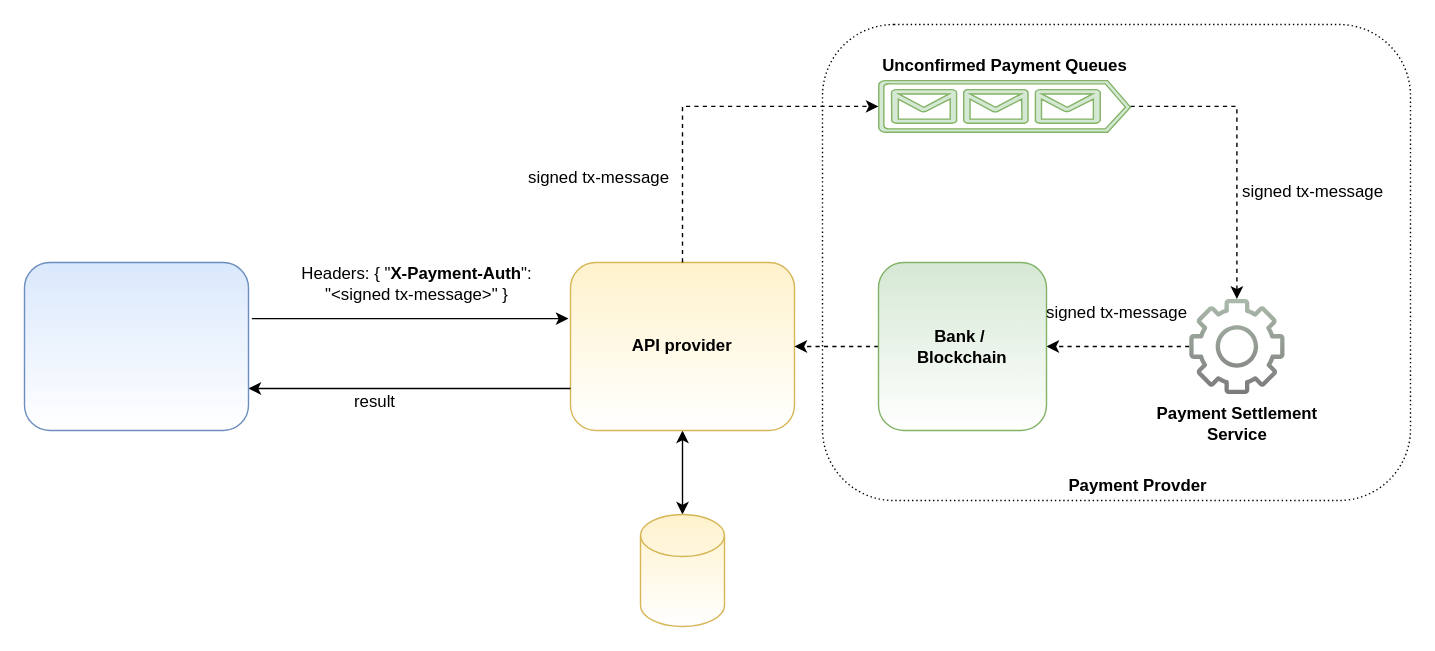
Image size: 1435x651. Some labels were removed from this diagram. Here are the shapes that lost their labels. From the top down, the centre of each, then its label:
At pixel 135 345: "API consumer".
At pixel 681 569: "DB".
